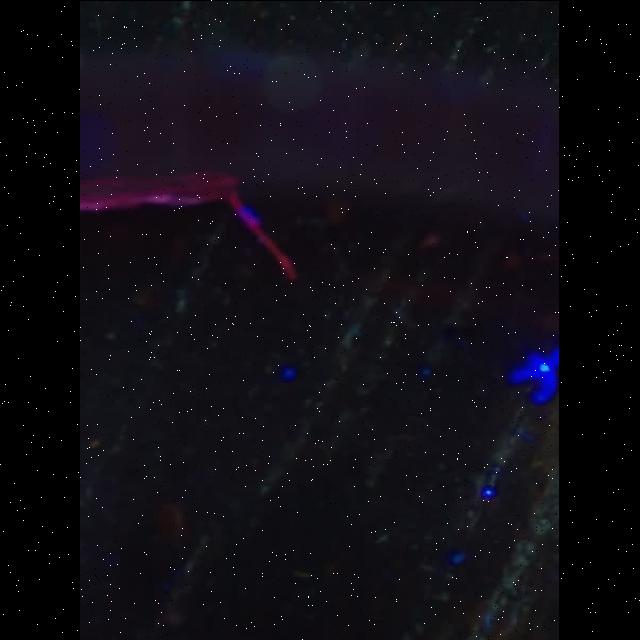Fibre: (228, 192, 304, 284)
